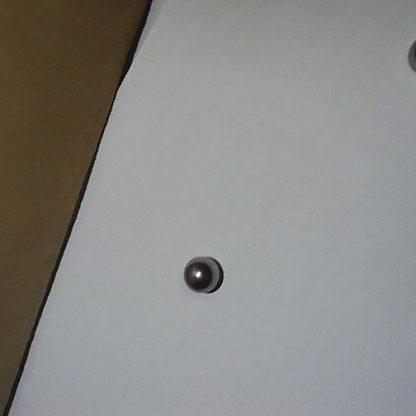ironball: (182, 254, 227, 293)
